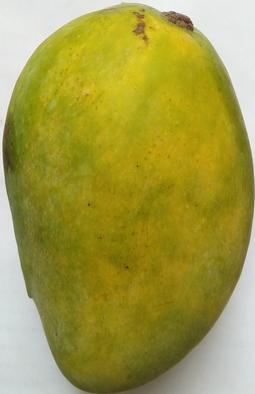PartiallyRipe: (1, 1, 255, 394)
